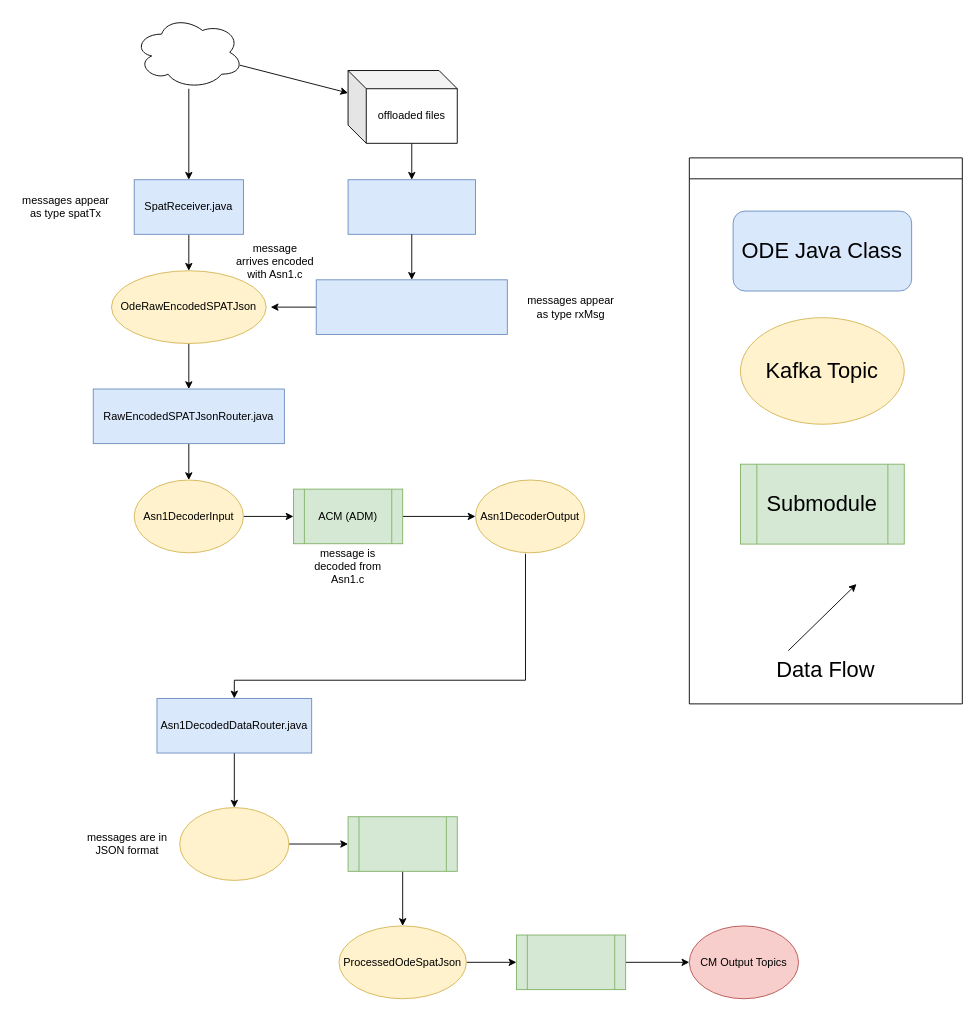
This 978x1015 diagram has some shape labels left out. The box of each missing label's shape, as (x1, y1, x2, y2) in pixels:
Conflict Monitor: (516, 934, 626, 990)
FileUploadController.java: (347, 179, 475, 234)
GeoJSON Converter: (347, 816, 457, 871)
ImporterDirectoryWatcher.java: (315, 279, 507, 334)
Key: (688, 157, 962, 704)
OdeSpatJson: (179, 807, 289, 880)
